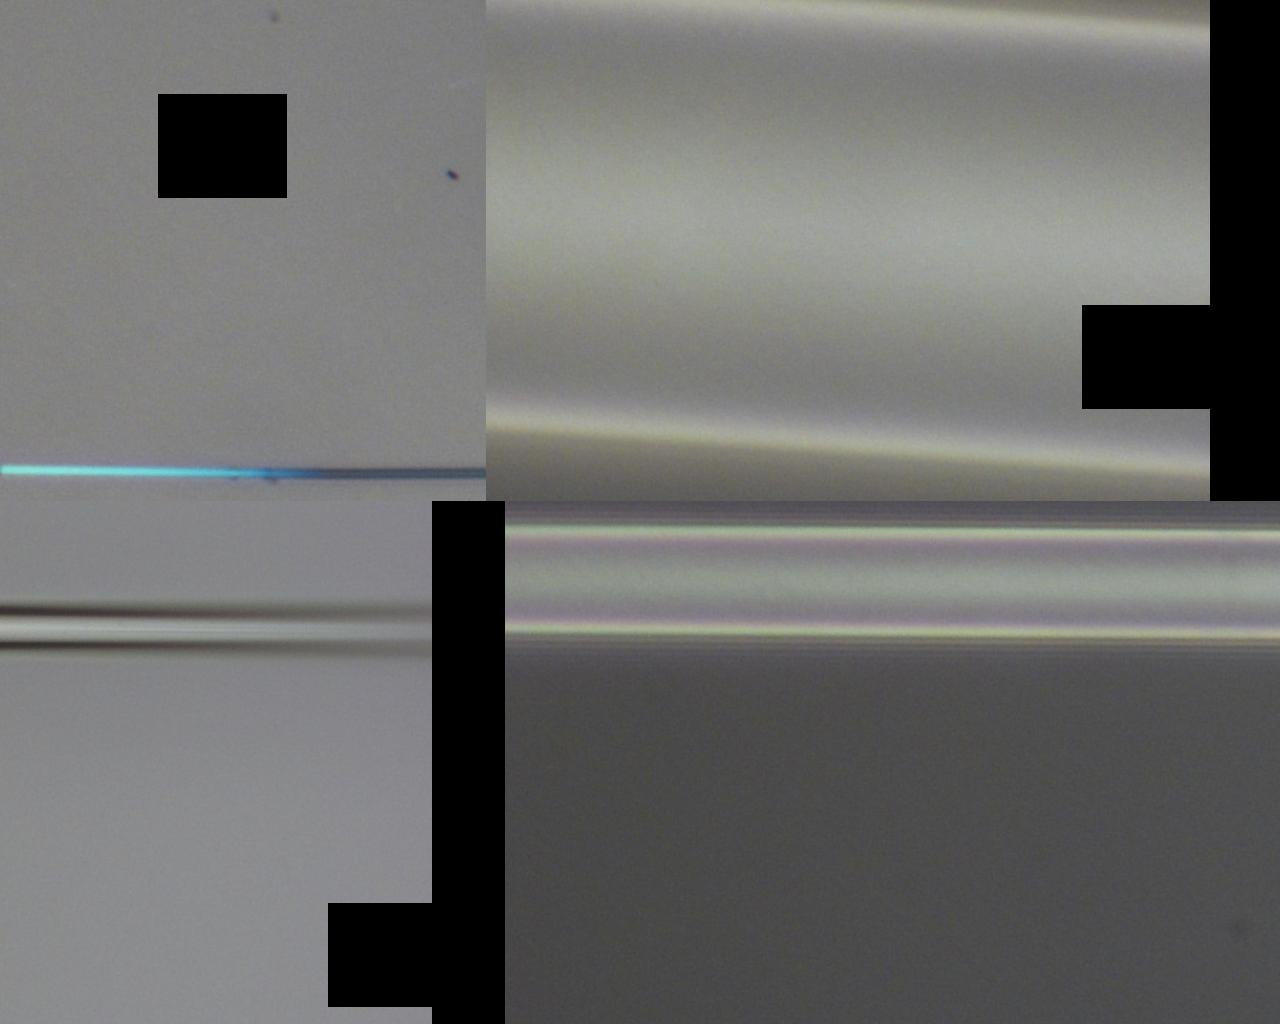fiber: (486, 0, 1210, 473), (504, 525, 1280, 644), (0, 605, 432, 654), (0, 462, 486, 481)
